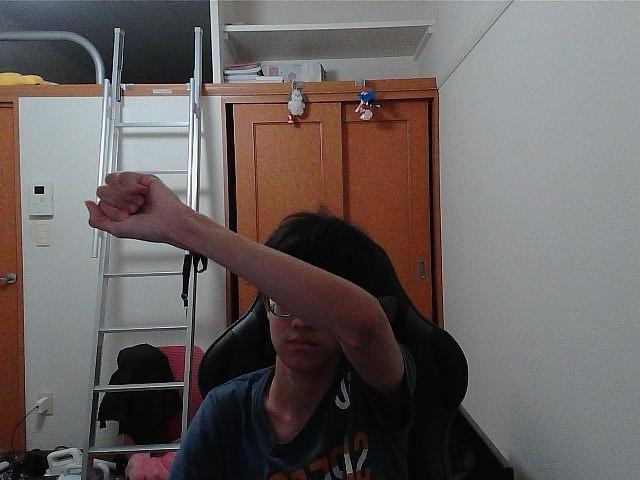closed_palm: (91, 176, 169, 232)
